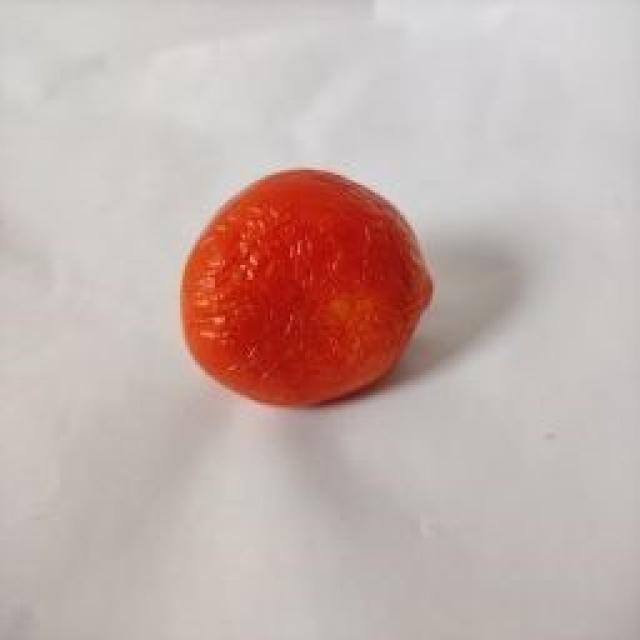overripe: (175, 166, 439, 411)
